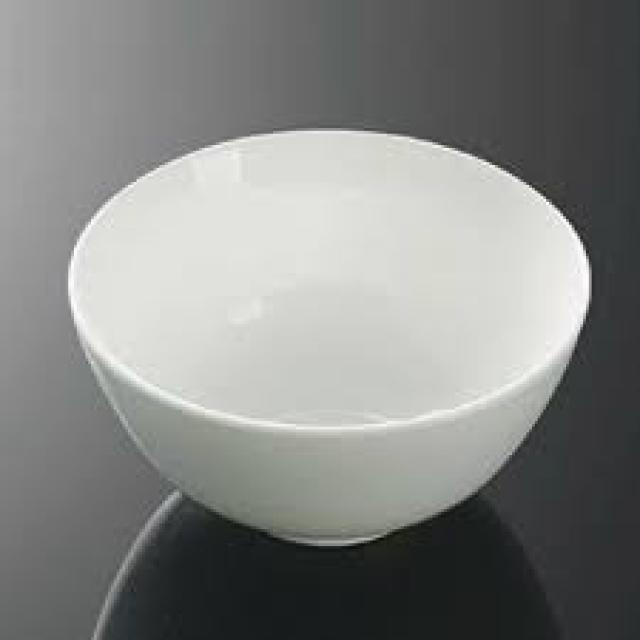Mangkok: (57, 114, 604, 557)
